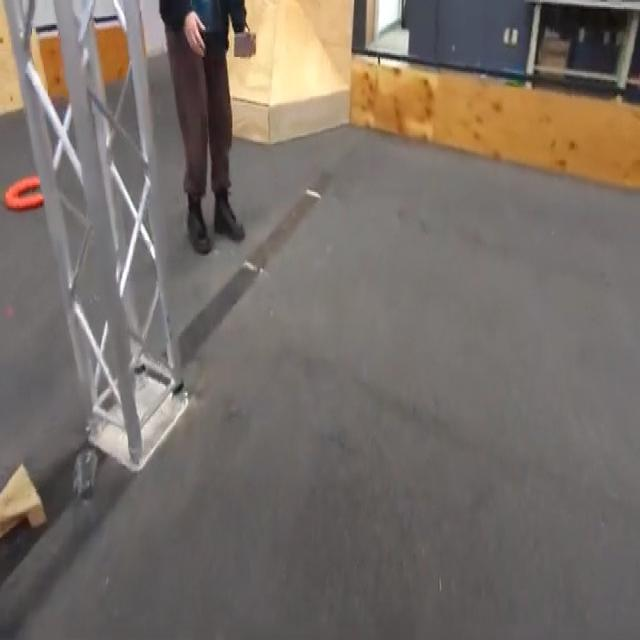note: (3, 174, 45, 212)
